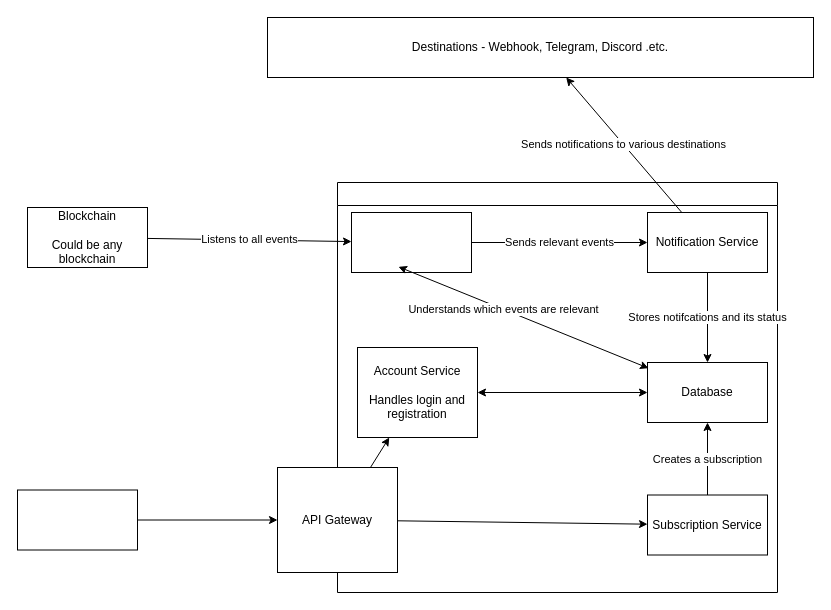
The diagram is 831 pixels wide and 610 high, and some of its shapes have lost their labels. The shapes that lost their labels are listed below. From the top down, each one's box as (x1, y1, x2, y2) in pixels, then its label:
(350, 212, 472, 272): Watcher Service
(336, 182, 778, 592): Monolith Backend
(16, 489, 138, 550): Clients Browser, CLI, Apps
